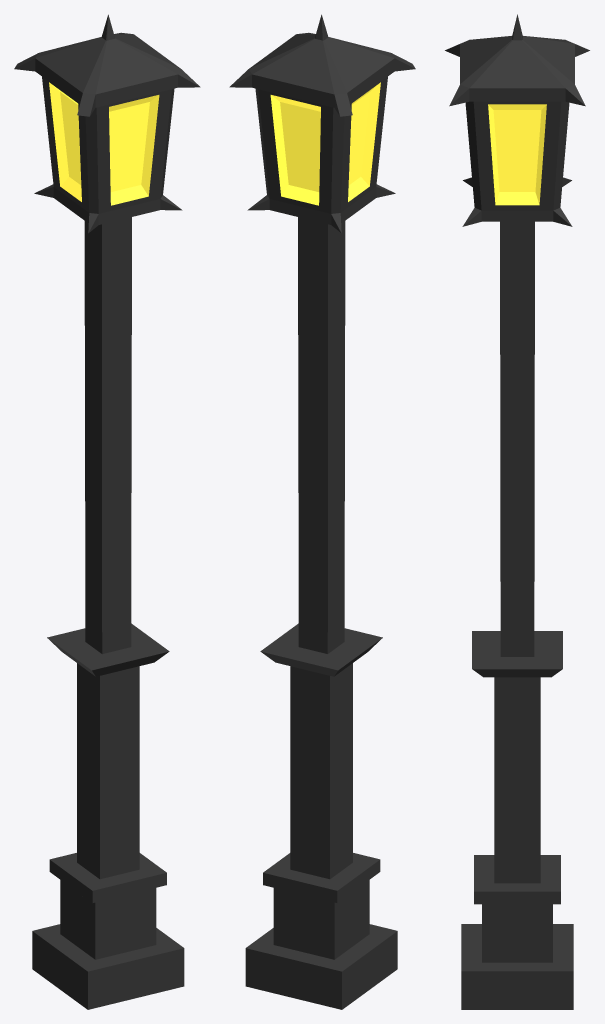
File: Old_Style_Street_Lamp.fbx
The picture shows the model from 3 angles, left to right: view 1: azimuth 30°, elevation 25°; view 2: azimuth 150°, elevation 25°; view 3: azimuth 270°, elevation 25°; orthographic projection.
Parts seen in each view (by area): view 1: Old_Style_Street_Lamp; view 2: Old_Style_Street_Lamp; view 3: Old_Style_Street_Lamp.
Boxes of the visible parts, x1,y1,x2,y2 form: Old_Style_Street_Lamp: (14,14,200,1009); Old_Style_Street_Lamp: (229,14,415,1009); Old_Style_Street_Lamp: (445,14,589,1009).
Bounding box in the file's own units: 472 × 3577 × 487.
